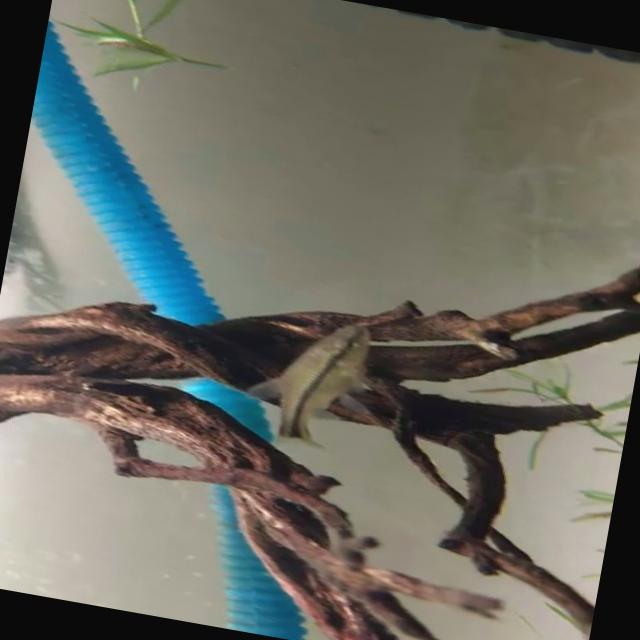Cakil Baligi: (235, 303, 384, 454)
